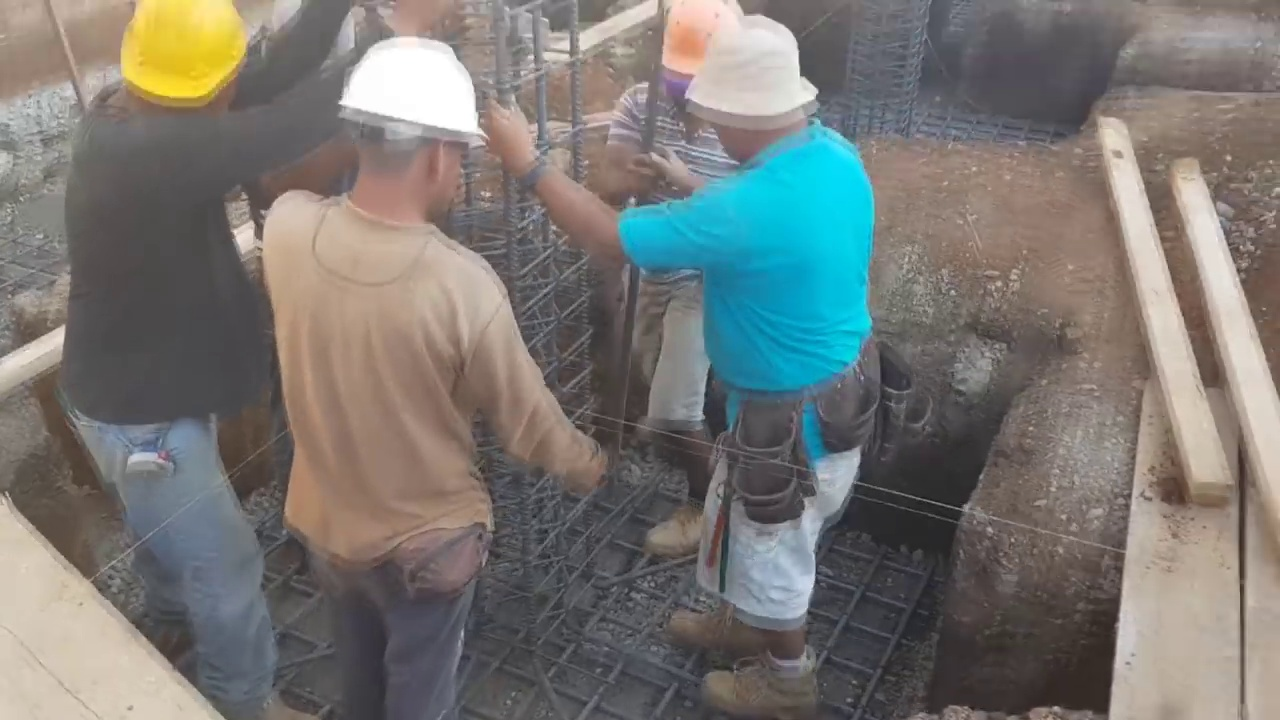helmet: (332, 39, 484, 159), (112, 4, 241, 104), (658, 2, 742, 77)
helmet-off: (687, 20, 813, 152)
helmet-on: (327, 35, 487, 233), (97, 3, 248, 141), (651, 3, 742, 101)
person: (490, 11, 911, 706), (62, 0, 385, 720), (251, 37, 587, 720), (582, 24, 748, 562), (588, 6, 742, 228)
